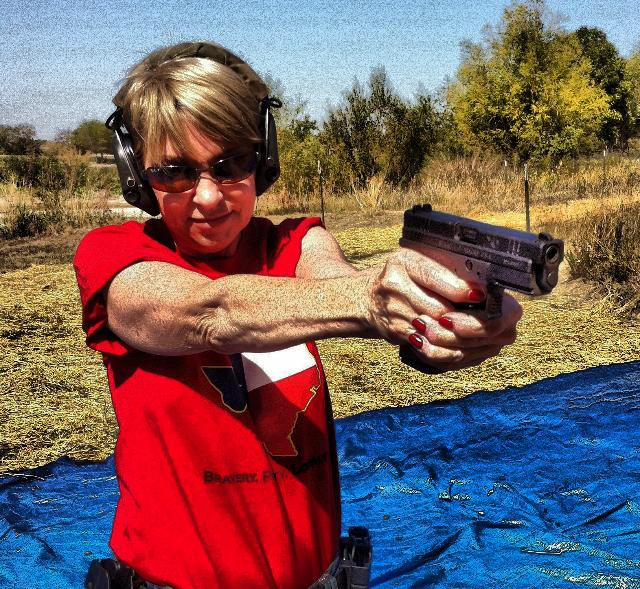pistol: (393, 203, 567, 373)
